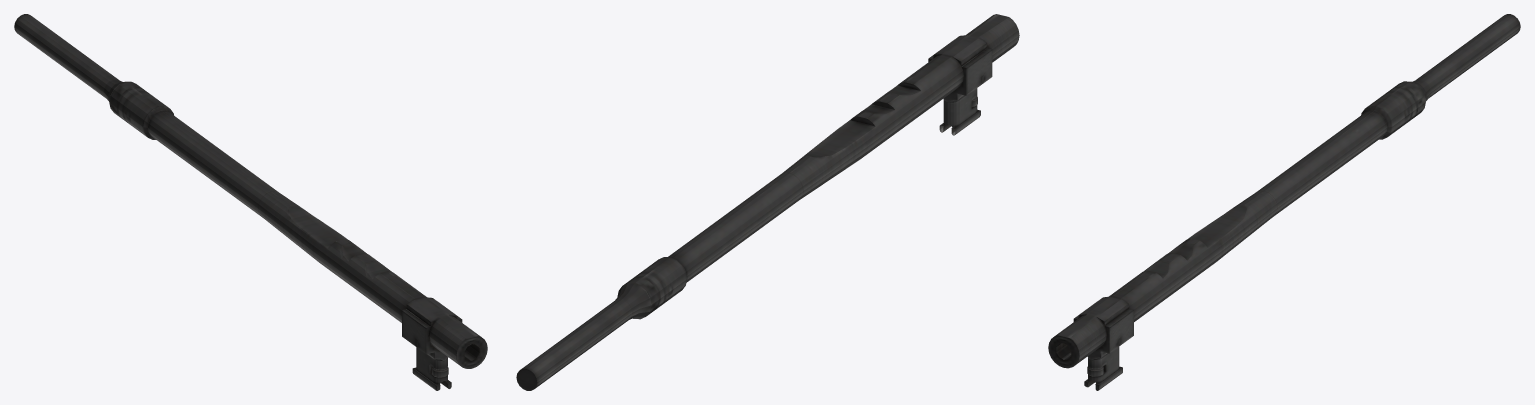
3 views of the same model, side by side, from view 1: azimuth 30°, elevation 25°; view 2: azimuth 150°, elevation 25°; view 3: azimuth 330°, elevation 25° (orthographic). The views are drawn at different scales.
Parts seen in each view (by area): view 1: TW_661cec09b2c6356b4d0c7a36_PZ_Import; view 2: TW_661cec09b2c6356b4d0c7a36_PZ_Import; view 3: TW_661cec09b2c6356b4d0c7a36_PZ_Import.
Part boxes in pixels (box(x1,y1,x2,y2)): TW_661cec09b2c6356b4d0c7a36_PZ_Import: box(14, 14, 487, 390); TW_661cec09b2c6356b4d0c7a36_PZ_Import: box(516, 14, 1019, 390); TW_661cec09b2c6356b4d0c7a36_PZ_Import: box(1048, 14, 1520, 390).
Size of the model in its own units: 0.0124 by 0.2677 by 0.0248.
1 material, 1 textured.
